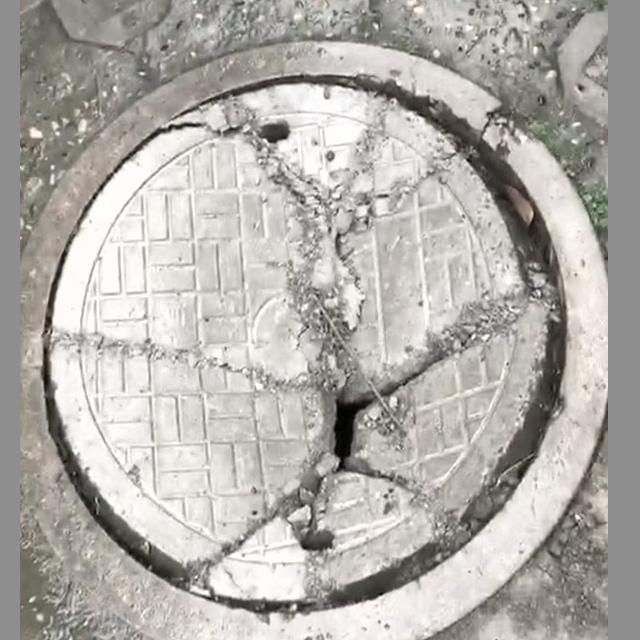broke: (35, 73, 568, 618)
